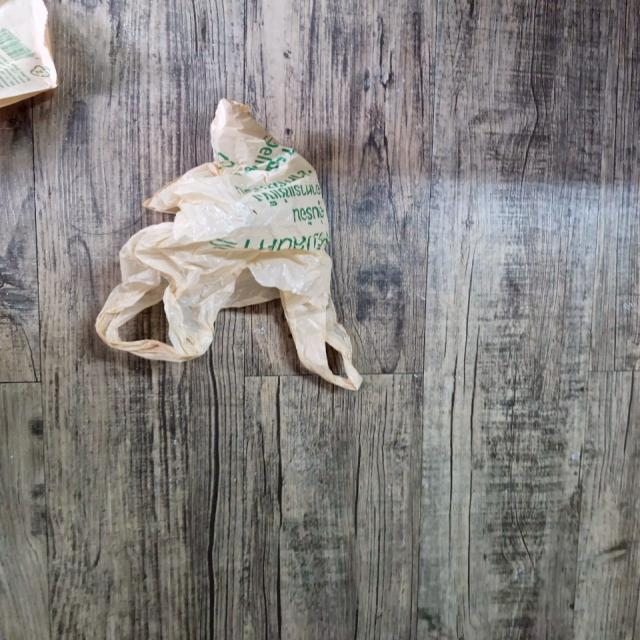plastic bag: (102, 102, 378, 389), (0, 0, 54, 108)
